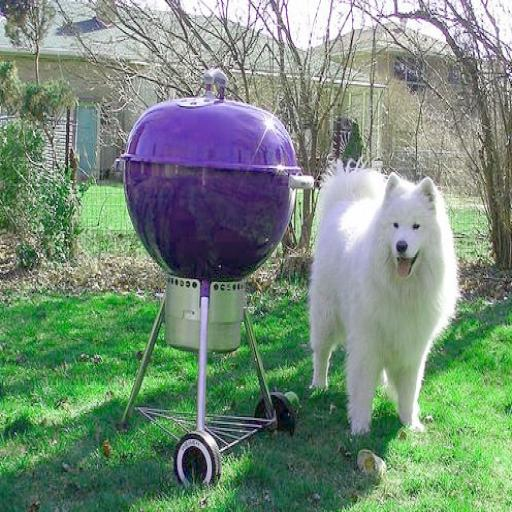dog_face: (376, 175, 441, 286)
